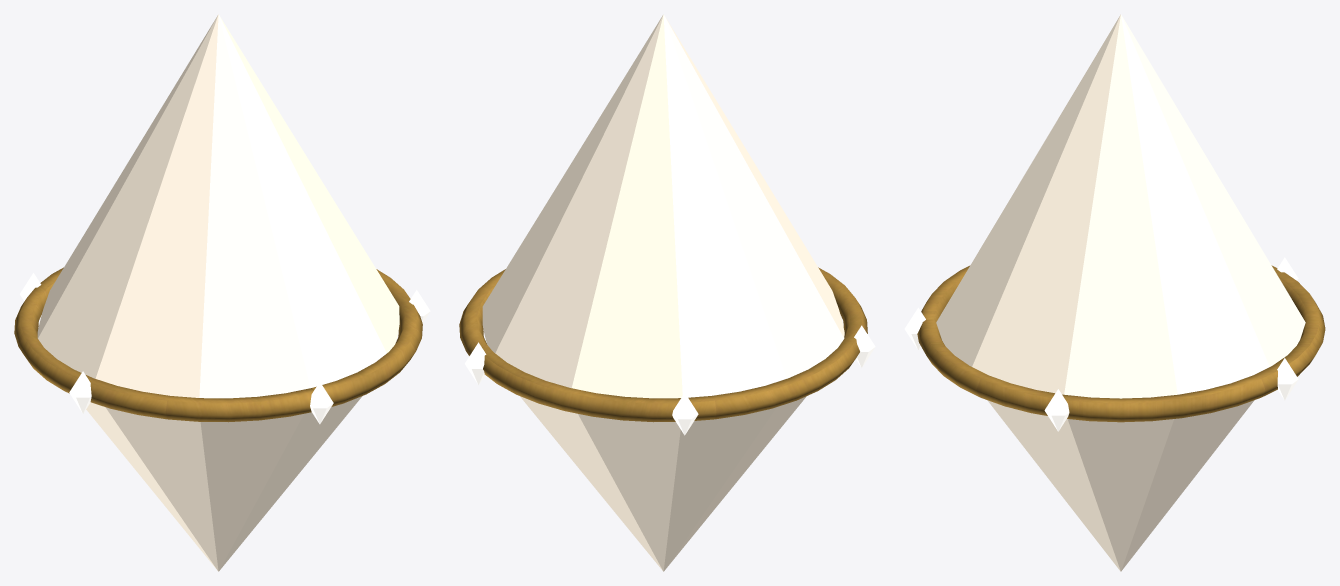
Rendered from lb_seal_idle.glb.
3 renders of one model, left to right at view 1: azimuth 30°, elevation 25°; view 2: azimuth 150°, elevation 25°; view 3: azimuth 270°, elevation 25°, orthographic.
Parts seen in each view (by area): view 1: lb_seal_idle; view 2: lb_seal_idle; view 3: lb_seal_idle.
Part boxes in pixels (<box>): lb_seal_idle: <box>14,14,430,571</box>; lb_seal_idle: <box>459,14,875,571</box>; lb_seal_idle: <box>904,14,1325,571</box>.
Size of the model in its own units: 2.06 by 3.1 by 2.12.
Materials: 3 (1 with a texture image).
